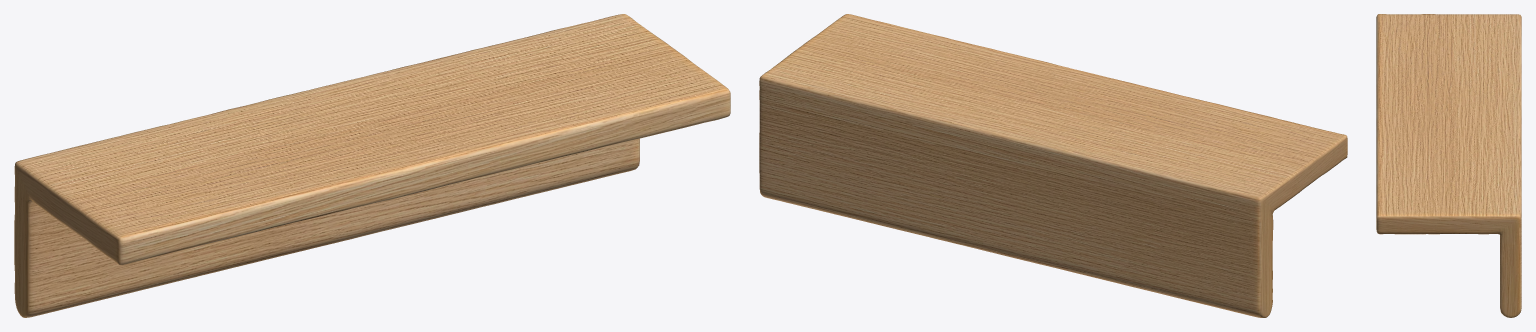
Rendered from oak-wall-shelf.glb.
3 views of the same model, side by side, from view 1: azimuth 30°, elevation 25°; view 2: azimuth 150°, elevation 25°; view 3: azimuth 270°, elevation 25° (orthographic). The views are drawn at different scales.
Visible parts, largest first — view 1: tripo_node_8e888a09-6bb4-4c79-9357-fafca4e8f049; view 2: tripo_node_8e888a09-6bb4-4c79-9357-fafca4e8f049; view 3: tripo_node_8e888a09-6bb4-4c79-9357-fafca4e8f049.
Part boxes in pixels (x1,y1,x2,y2): tripo_node_8e888a09-6bb4-4c79-9357-fafca4e8f049: [14, 14, 730, 317]; tripo_node_8e888a09-6bb4-4c79-9357-fafca4e8f049: [759, 14, 1347, 317]; tripo_node_8e888a09-6bb4-4c79-9357-fafca4e8f049: [1376, 14, 1521, 317].
Bounding box in the file's own units: 0.4238 × 0.1 × 0.1285.
1 material, 1 textured.
